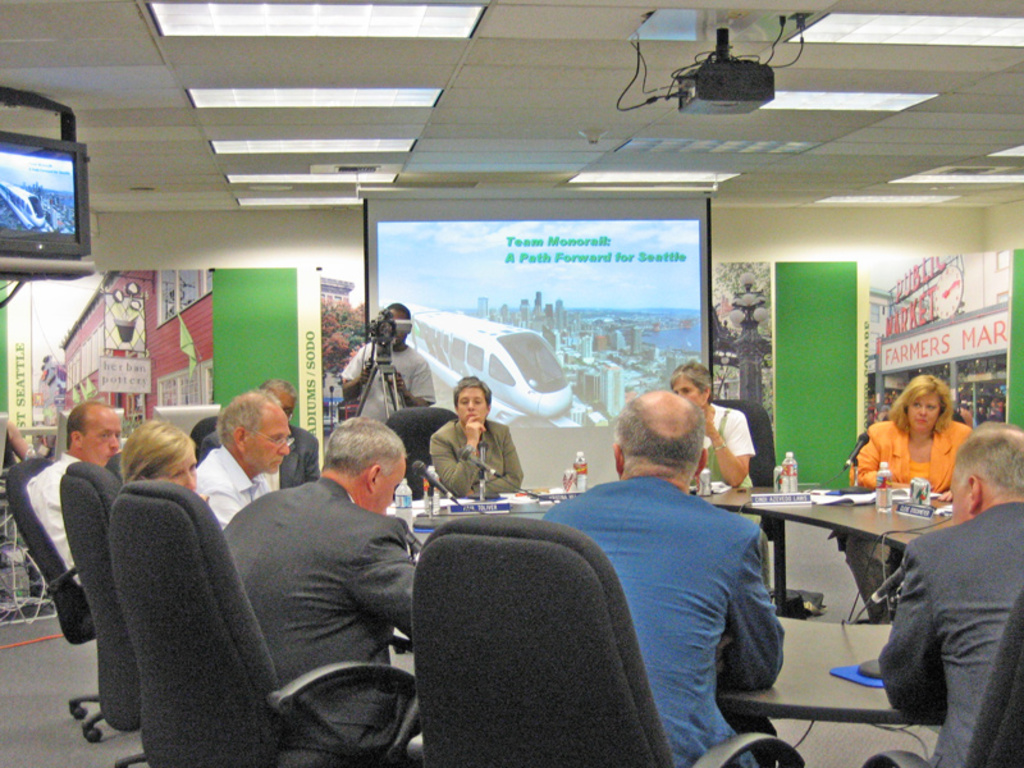Chair: (0, 404, 1023, 767), (54, 463, 421, 765)
